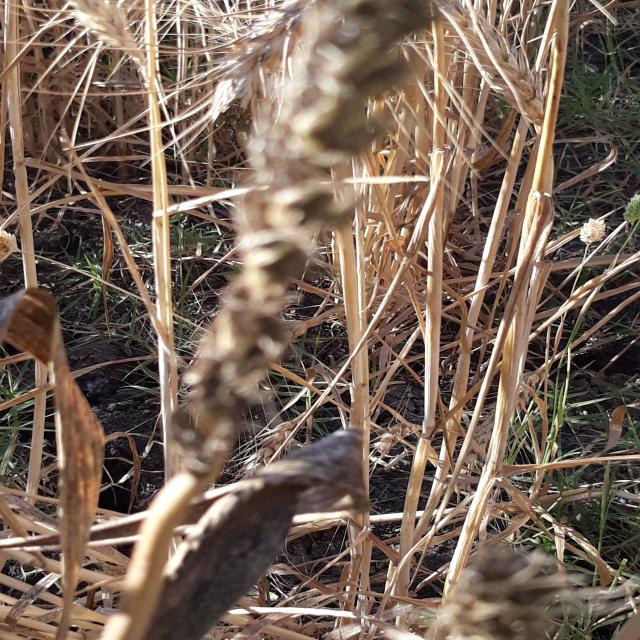loose_charred: (99, 0, 449, 640)
